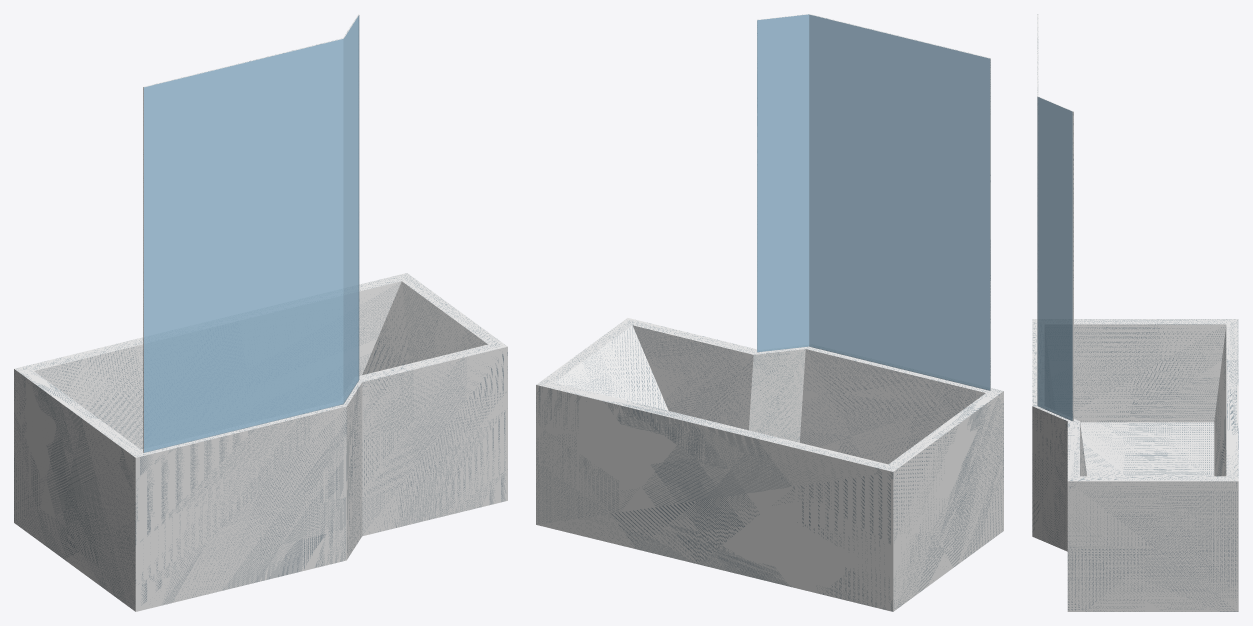
3 renders of one model, left to right at view 1: azimuth 30°, elevation 25°; view 2: azimuth 150°, elevation 25°; view 3: azimuth 270°, elevation 25°, orthographic. The views are drawn at different scales.
Visible parts, largest first — view 1: Nordhem_Apelviken_with_Tjorn (×4); view 2: Nordhem_Apelviken_with_Tjorn (×4); view 3: Nordhem_Apelviken_with_Tjorn (×4).
Boxes of the visible parts, x1,y1,x2,y2 form: Nordhem_Apelviken_with_Tjorn (×4): [14, 14, 507, 611]; Nordhem_Apelviken_with_Tjorn (×4): [536, 14, 1003, 611]; Nordhem_Apelviken_with_Tjorn (×4): [1032, 14, 1238, 611].
Size of the model in its own units: 62.01 by 33.27 by 78.35.
